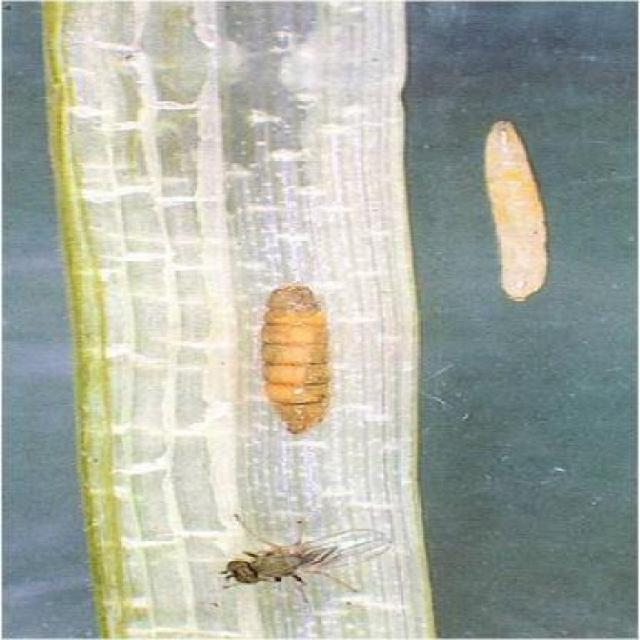whorl-maggot: (459, 115, 579, 308), (234, 275, 374, 440)
